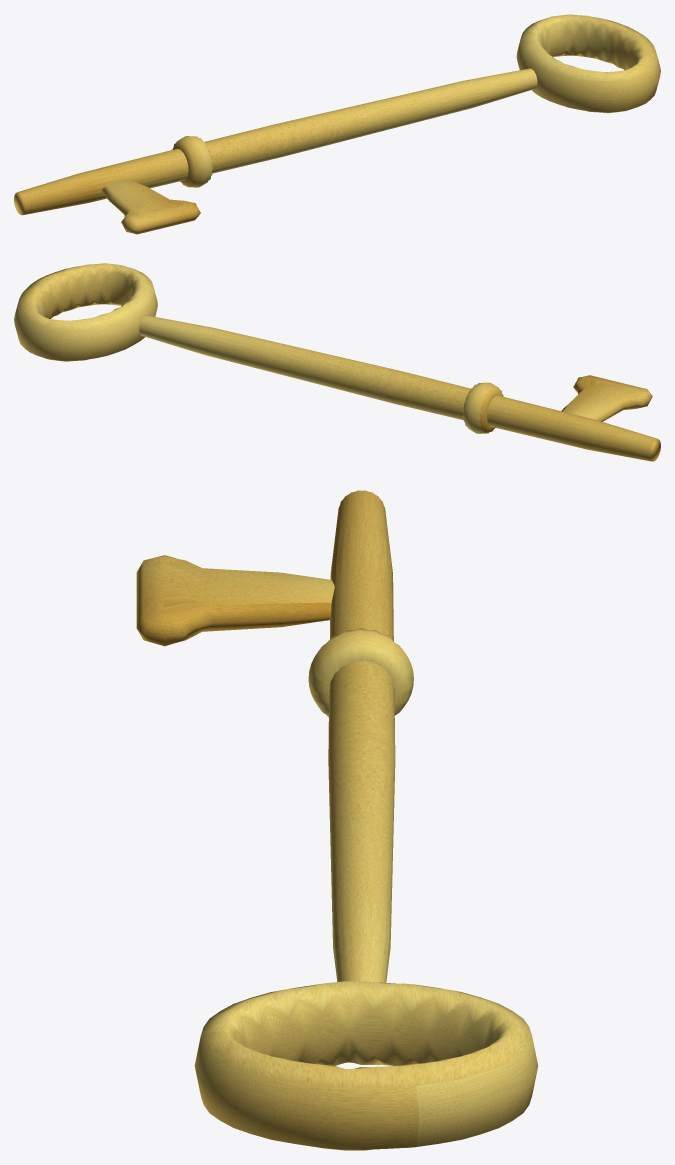
Rendered from Key.fbx.
The picture shows the model from 3 angles, top to bottom: view 1: azimuth 30°, elevation 25°; view 2: azimuth 150°, elevation 25°; view 3: azimuth 270°, elevation 25°; orthographic projection. The views are drawn at different scales.
Parts seen in each view (by area): view 1: pCylinder6; view 2: pCylinder6; view 3: pCylinder6.
Part boxes in pixels (x1=…): pCylinder6: x1=14, y1=14, x2=660, y2=234; pCylinder6: x1=14, y1=263, x2=660, y2=461; pCylinder6: x1=136, y1=490, x2=538, y2=1150.
Bounding box in the file's own units: 4.13 × 0.3018 × 1.15.
